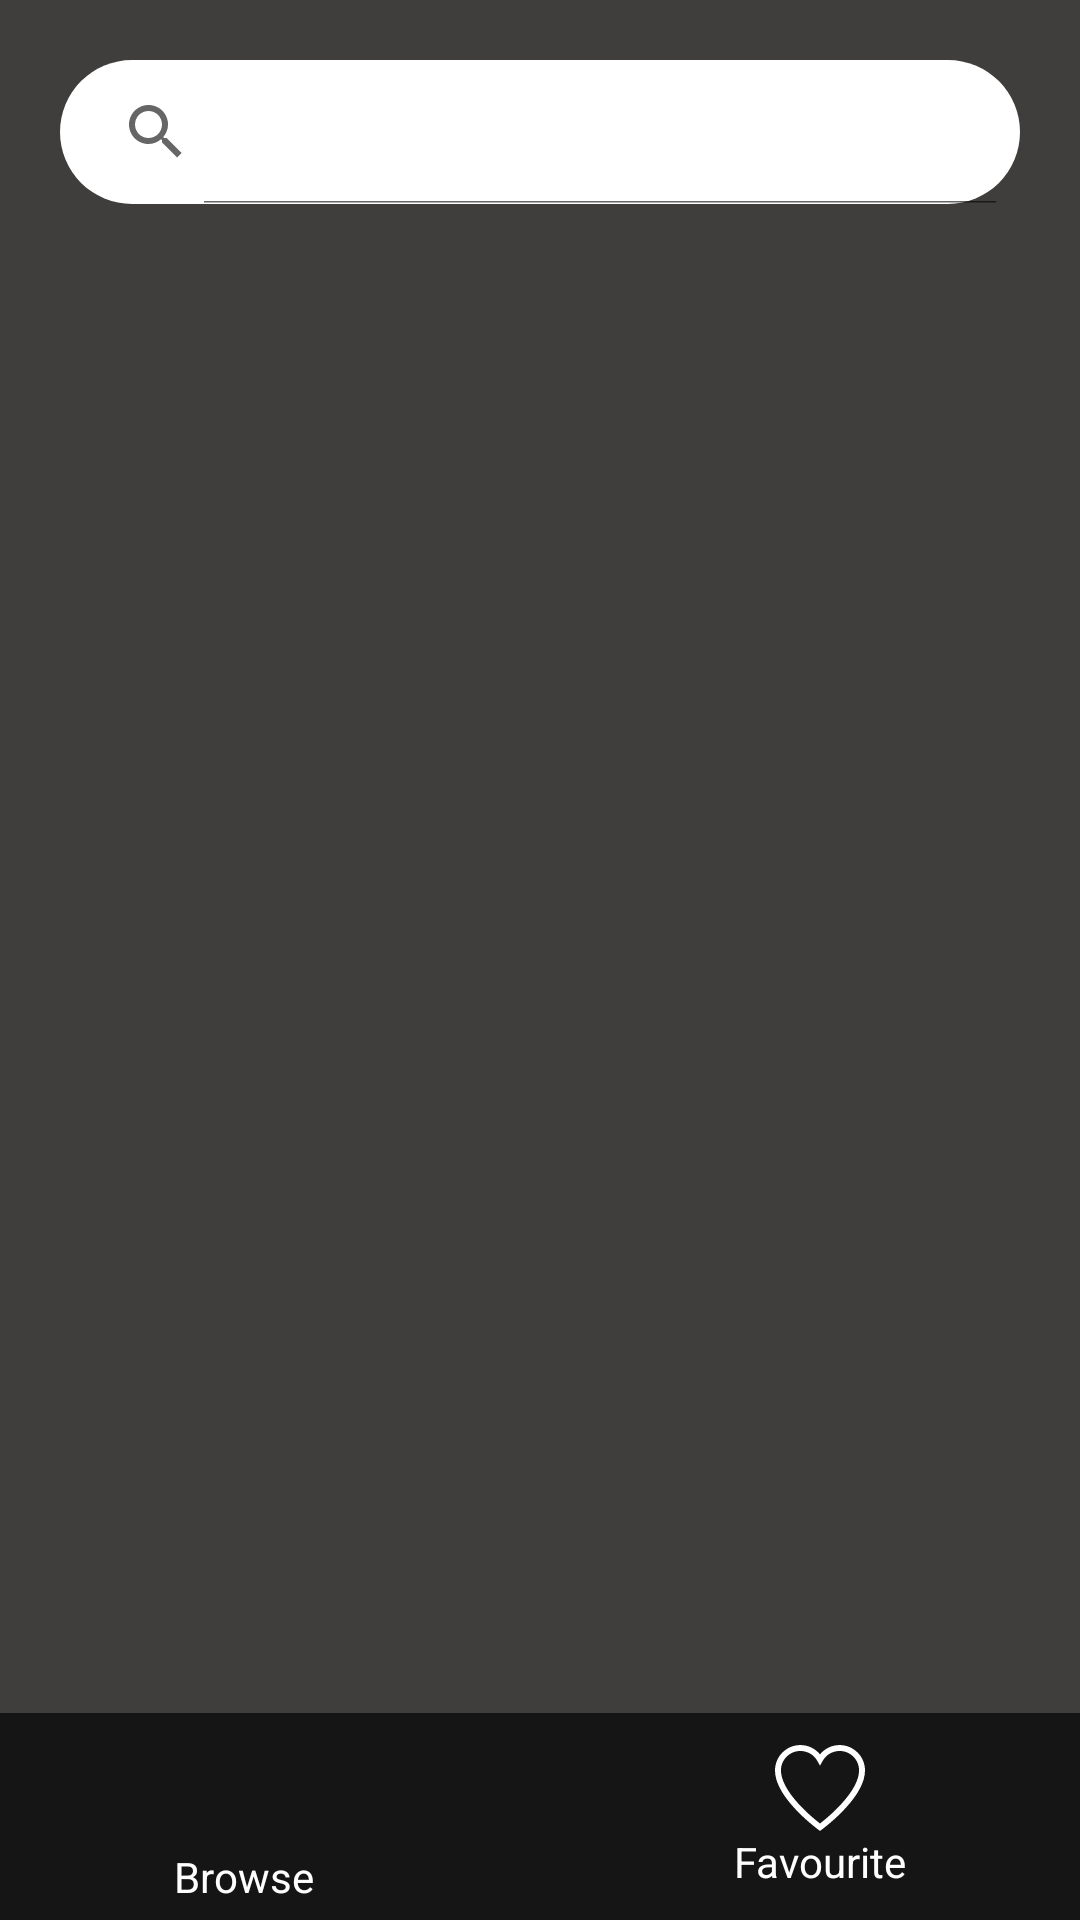

Where icons sit on this 1080×1920 app screen, as (x1, y1, x2, y2):
heart: (775, 1745, 865, 1831)
